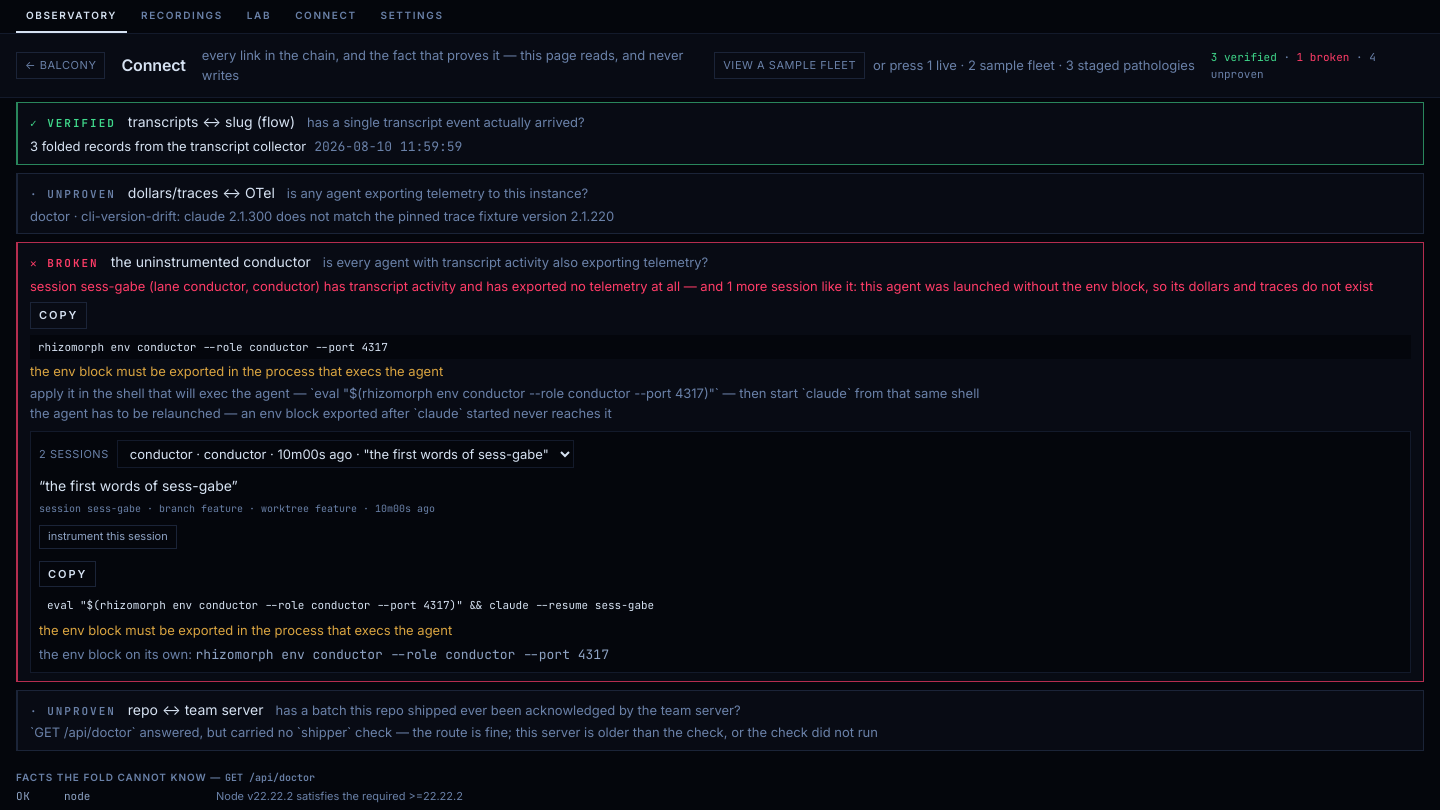
it: the uninstrumented sessions, enumerated (#520) › drives the whole detail panel from the selection, and nothing else
The image size is (1440, 810).
(page scrolled)
Check: the element with test id "connect-uninstrumented-detail" is shown, box [39,476,1402,664]
Check: the text with test id "connect-preview-sess-gabe" shows "sess-gabe", box [39,477,238,494]
Select "lane-b · worker · 5m00s ago · \"the first words of sess-lane-b\"" in the dropdown with test id "connect-uninstrumented-select": (345,454) [117,440,574,468]
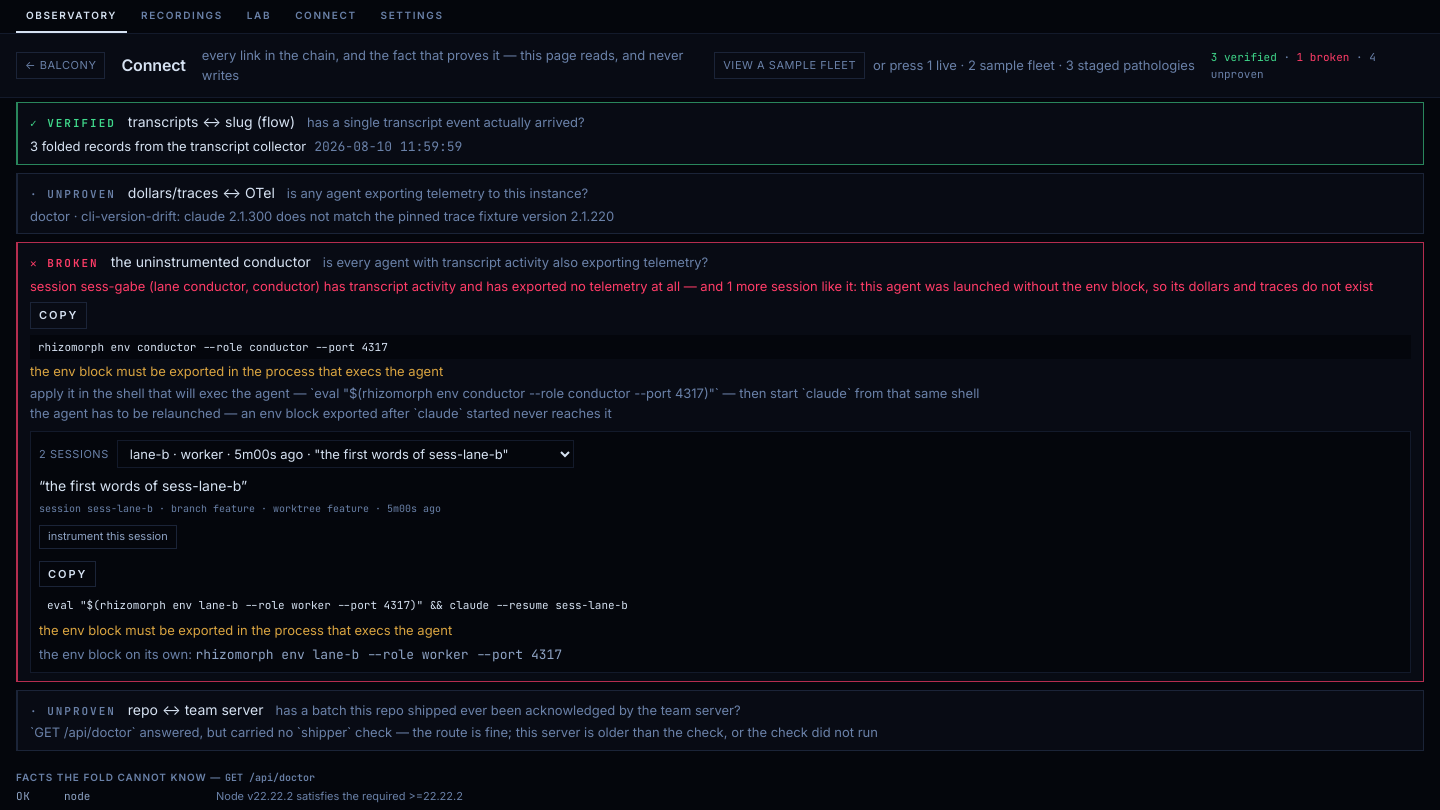
Check: the element with test id "connect-instrument-sess-lane-b" is shown, box [39,525,177,549]
Check: the text with test id "connect-preview-sess-lane-b" shows "sess-lane-b", box [39,477,247,494]
Check: the text with test id "connect-command-resume-sess-lane-b" shows "eval \"$(rhizomorph env lane-b --role worker --port 4317)\" && claude --resume sess-lane-b", box [47,598,628,612]
